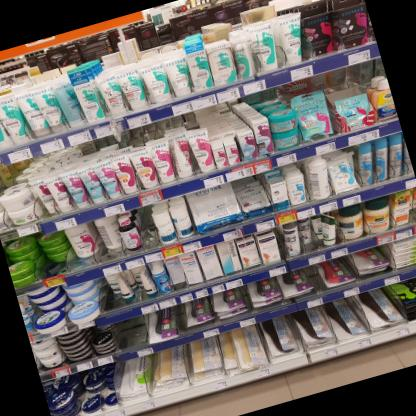empty_space: (318, 63, 375, 135), (108, 316, 151, 352)
